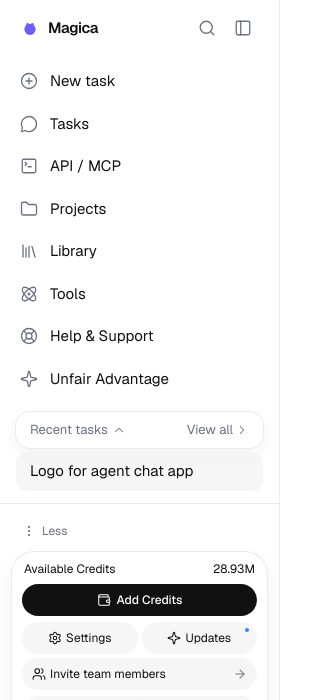
Test: Sidebar › collapses the account card to More without hiding the rail
Click the button "Less" at (45,530), box [12, 516, 78, 546]
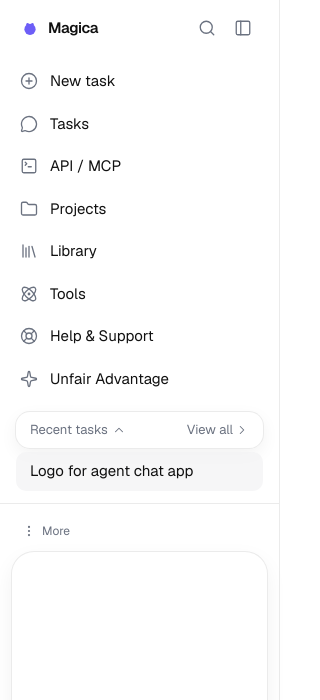
expect the button "New task" is shown: met, box [16, 60, 263, 102]
expect the button "More" is collapsed: met
Click the button "More" at (46,530), box [12, 516, 80, 546]
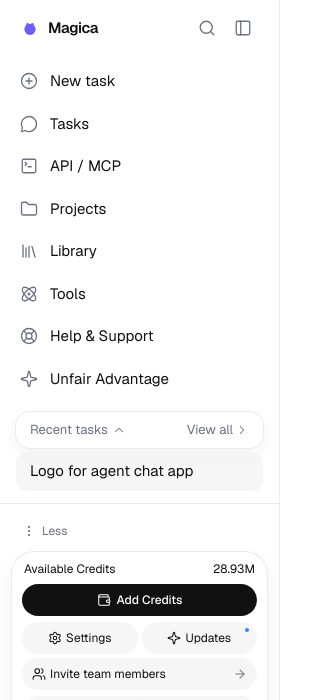
expect the button "Less" is expanded: met, box [12, 516, 78, 546]
